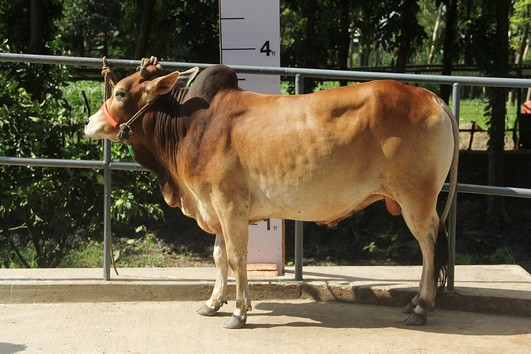cow: (73, 52, 467, 329)
